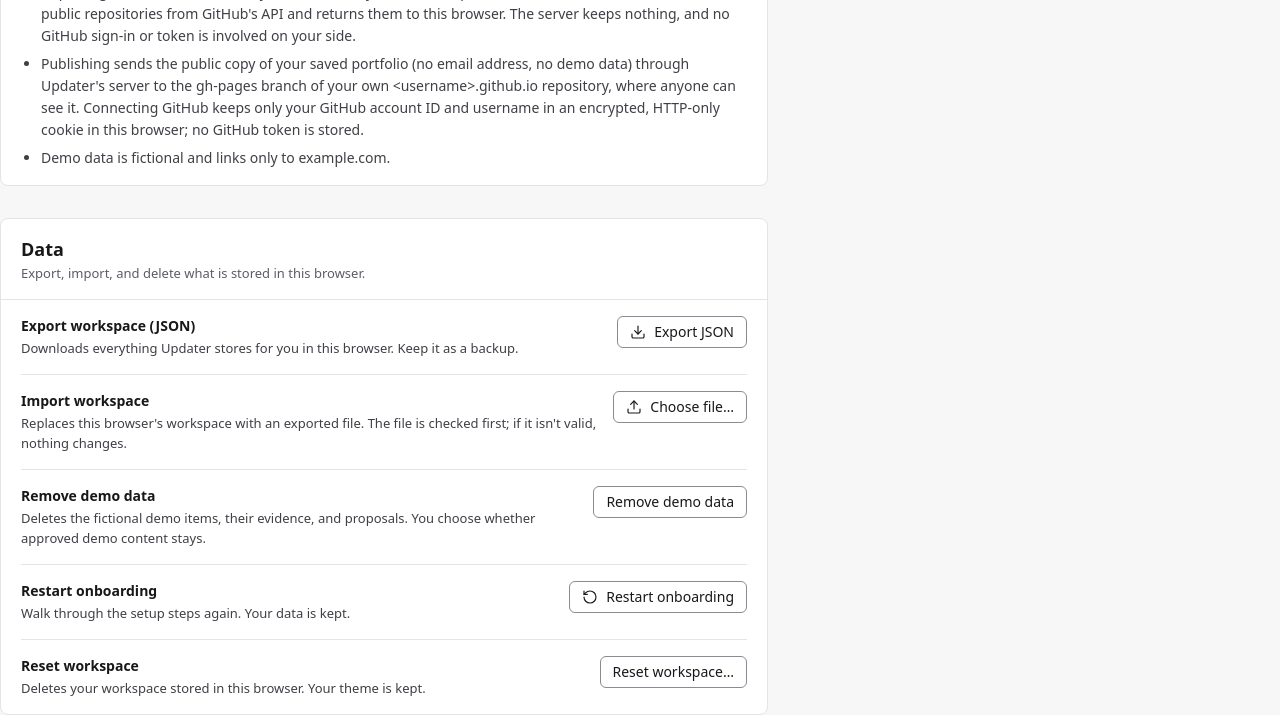
Test: SettingsView (T8.1–T8.6) › reset requires confirmation, names what is lost, and can be cancelled
(page scrolled)
Click the button "Reset workspace…" at (673, 672), box [600, 656, 747, 688]
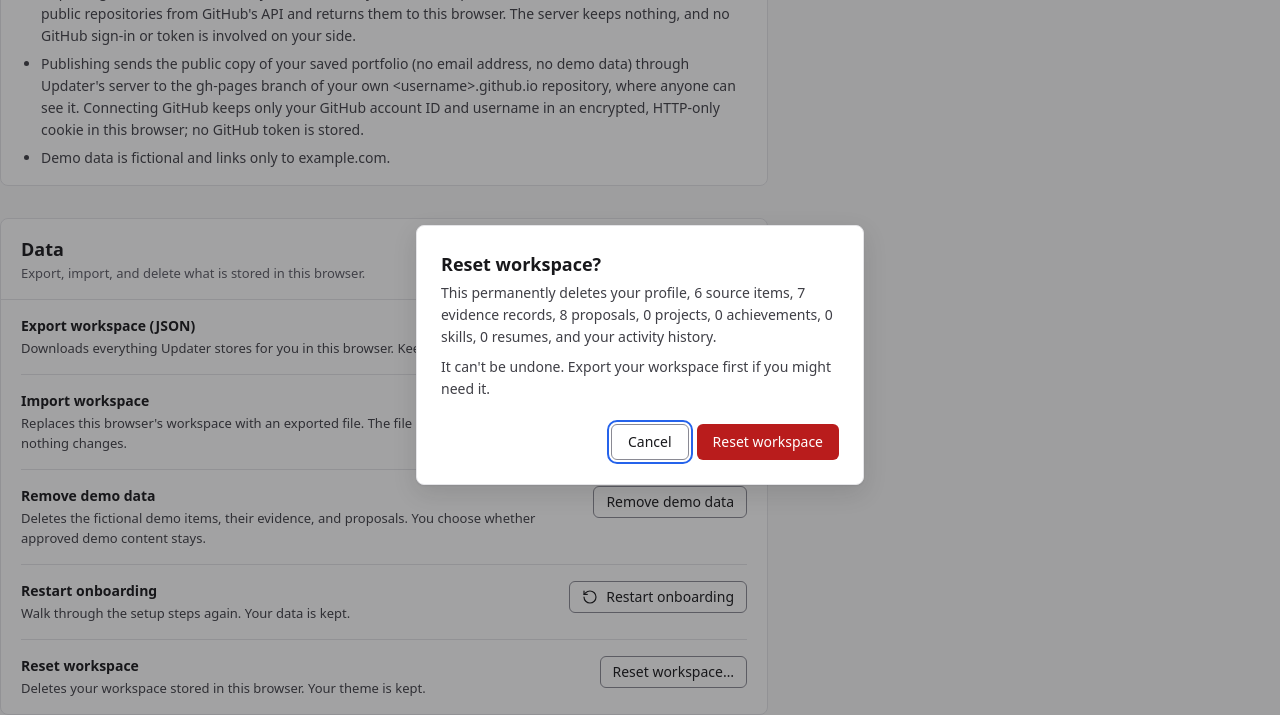
Result: the dialog "Reset workspace?" shows "8 proposals" at [441, 283, 833, 346]
Click the button "Cancel" at (650, 442), box [611, 424, 689, 460]
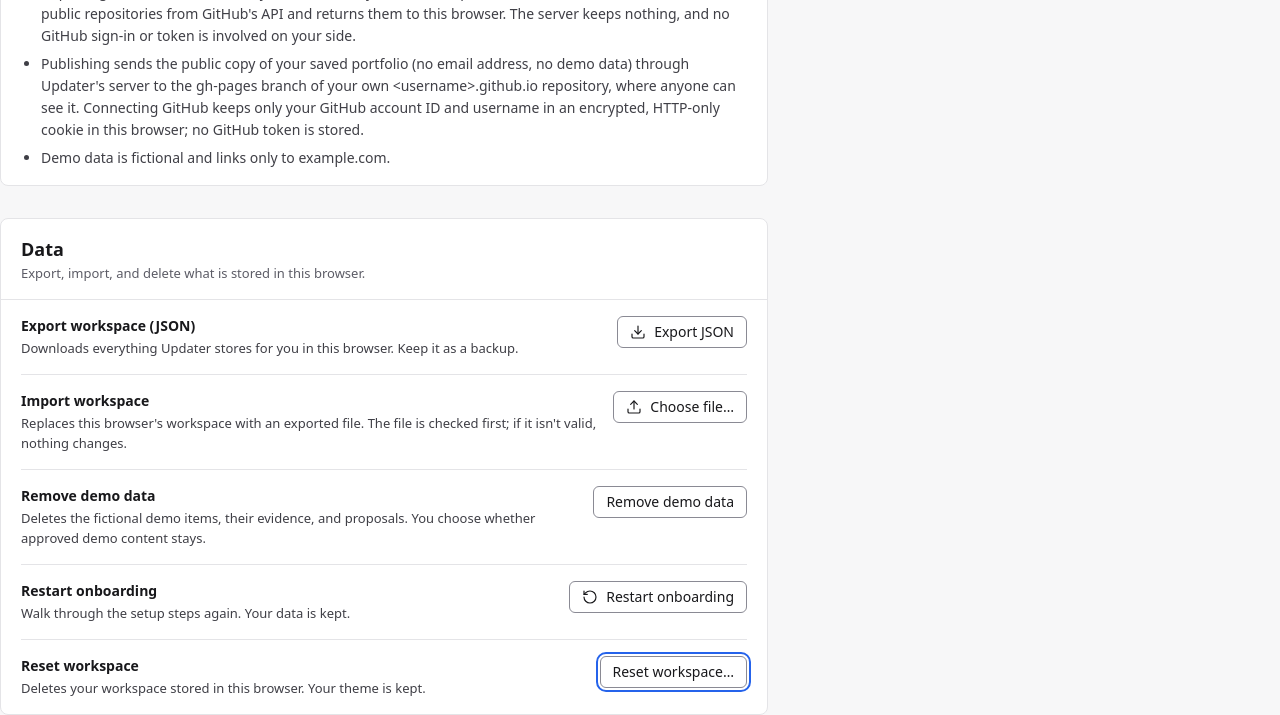
Click the button "Reset workspace…" at (673, 672), box [600, 656, 747, 688]
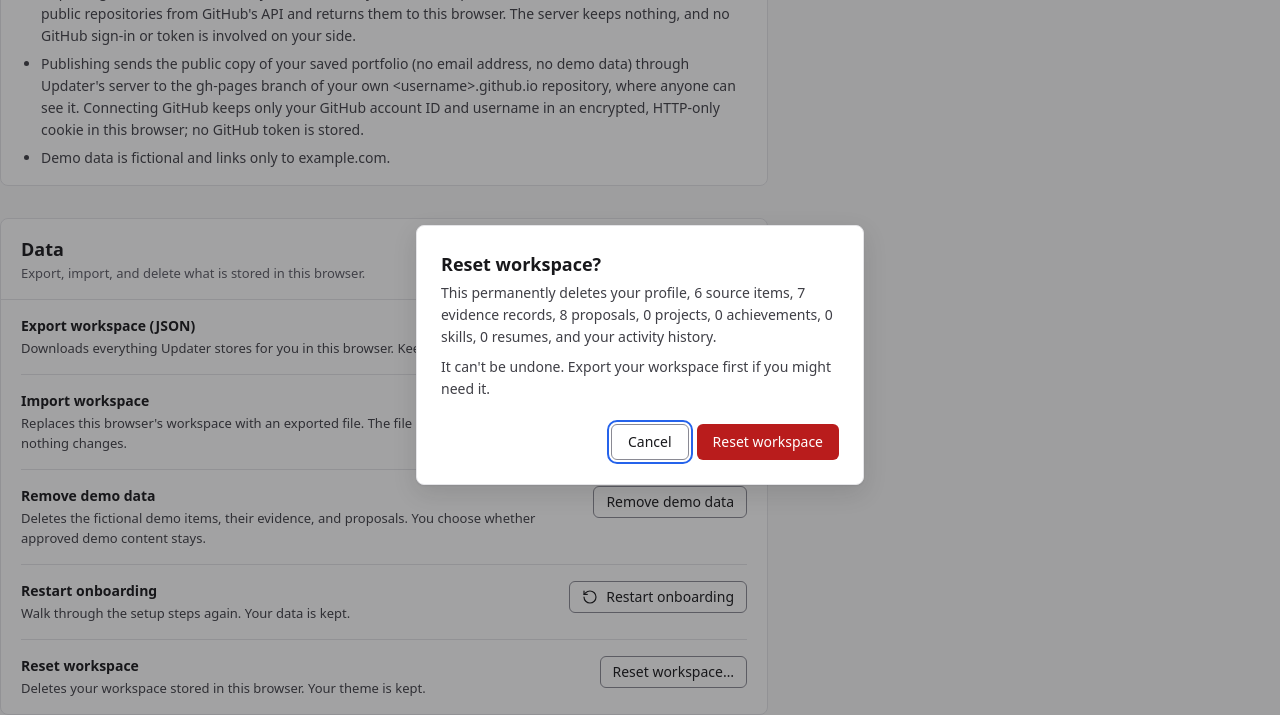
Click the button "Reset workspace" at (768, 442), box [697, 424, 839, 460]
(page scrolled)
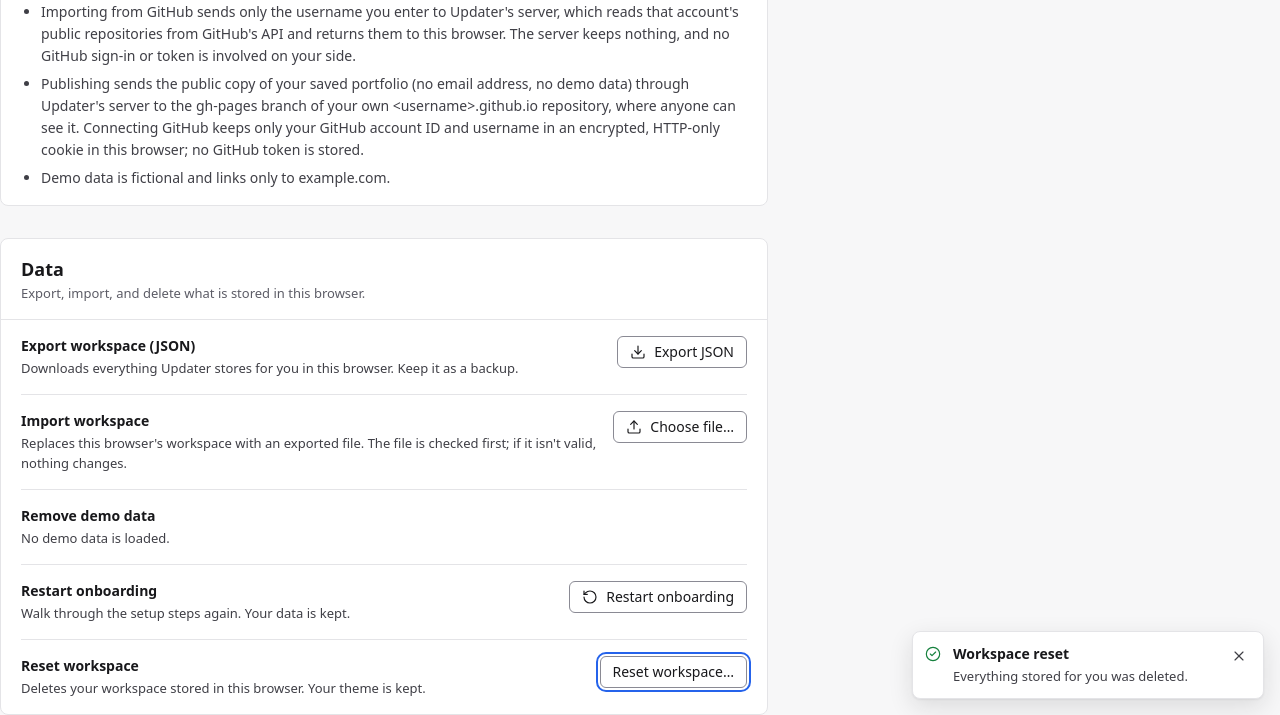
Result: the text "Workspace reset" is shown at [953, 644, 1069, 663]
